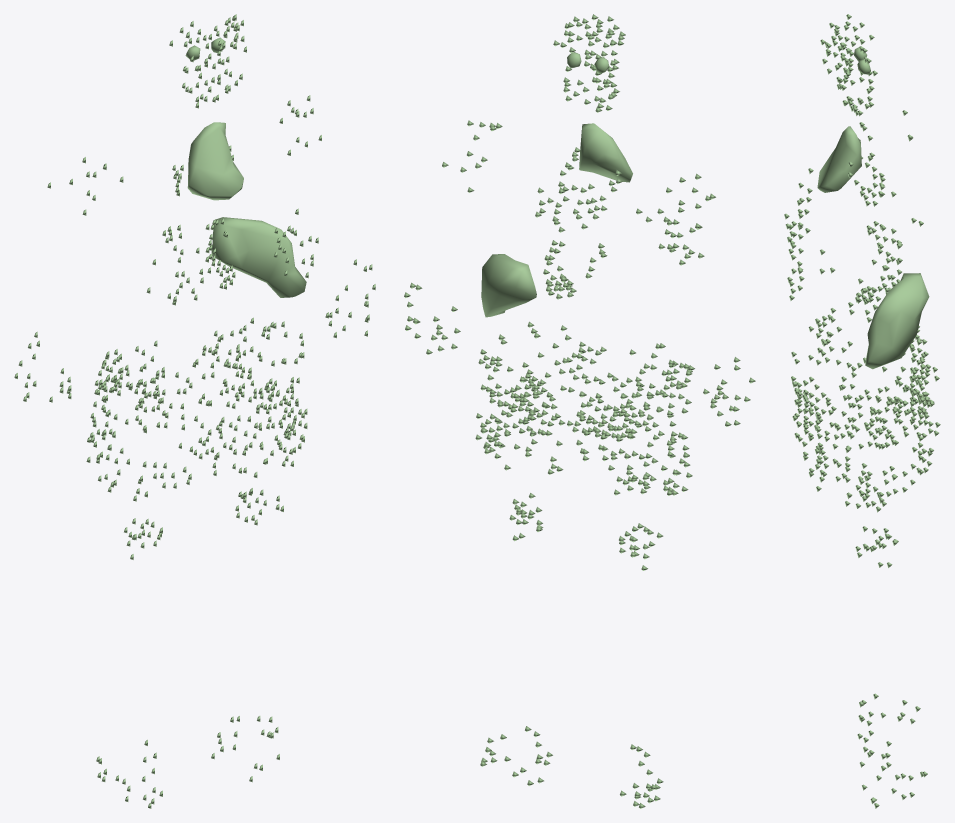
Rendered from pediatric_child_5y_female.lymphatic.LOD3.glb.
3 views of the same model, side by side, from view 1: azimuth 30°, elevation 25°; view 2: azimuth 150°, elevation 25°; view 3: azimuth 270°, elevation 25° (orthographic). The views are drawn at different scales.
Parts seen in each view (by area): view 1: PEDIATRIC.CHILD_5Y.FEMALE.LYMPHATIC.LYMPHATIC_NODES_TRUNK, PEDIATRIC.CHILD_5Y.FEMALE.LYMPHATIC.SPLEEN, PEDIATRIC.CHILD_5Y.FEMALE.LYMPHATIC.THYMUS, PEDIATRIC.CHILD_5Y.FEMALE.LYMPHATIC.LYMPHATIC_NODES_ET, PEDIATRIC.CHILD_5Y.FEMALE.LYMPHATIC.LYMPHATIC_NODES_THORACIC, PEDIATRIC.CHILD_5Y.FEMALE.LYMPHATIC.LYMPHATIC_NODES_LEGS, PEDIATRIC.CHILD_5Y.FEMALE.LYMPHATIC.LYMPHATIC_NODES_ARMS; view 2: PEDIATRIC.CHILD_5Y.FEMALE.LYMPHATIC.LYMPHATIC_NODES_TRUNK, PEDIATRIC.CHILD_5Y.FEMALE.LYMPHATIC.SPLEEN, PEDIATRIC.CHILD_5Y.FEMALE.LYMPHATIC.THYMUS, PEDIATRIC.CHILD_5Y.FEMALE.LYMPHATIC.LYMPHATIC_NODES_ET, PEDIATRIC.CHILD_5Y.FEMALE.LYMPHATIC.LYMPHATIC_NODES_THORACIC, PEDIATRIC.CHILD_5Y.FEMALE.LYMPHATIC.LYMPHATIC_NODES_ARMS, PEDIATRIC.CHILD_5Y.FEMALE.LYMPHATIC.LYMPHATIC_NODES_LEGS; view 3: PEDIATRIC.CHILD_5Y.FEMALE.LYMPHATIC.LYMPHATIC_NODES_TRUNK, PEDIATRIC.CHILD_5Y.FEMALE.LYMPHATIC.SPLEEN, PEDIATRIC.CHILD_5Y.FEMALE.LYMPHATIC.THYMUS, PEDIATRIC.CHILD_5Y.FEMALE.LYMPHATIC.LYMPHATIC_NODES_ET, PEDIATRIC.CHILD_5Y.FEMALE.LYMPHATIC.LYMPHATIC_NODES_THORACIC, PEDIATRIC.CHILD_5Y.FEMALE.LYMPHATIC.LYMPHATIC_NODES_LEGS, PEDIATRIC.CHILD_5Y.FEMALE.LYMPHATIC.LYMPHATIC_NODES_ARMS, PEDIATRIC.CHILD_5Y.FEMALE.LYMPHATIC.LYMPHATIC_NODES_HEAD.
Boxes of the visible parts, x1,y1,x2,y2 form: PEDIATRIC.CHILD_5Y.FEMALE.LYMPHATIC.LYMPHATIC_NODES_TRUNK: [47, 95, 321, 559]; PEDIATRIC.CHILD_5Y.FEMALE.LYMPHATIC.SPLEEN: [211, 217, 306, 297]; PEDIATRIC.CHILD_5Y.FEMALE.LYMPHATIC.THYMUS: [187, 122, 243, 200]; PEDIATRIC.CHILD_5Y.FEMALE.LYMPHATIC.LYMPHATIC_NODES_ET: [169, 14, 246, 85]; PEDIATRIC.CHILD_5Y.FEMALE.LYMPHATIC.LYMPHATIC_NODES_THORACIC: [165, 145, 235, 289]; PEDIATRIC.CHILD_5Y.FEMALE.LYMPHATIC.LYMPHATIC_NODES_LEGS: [96, 716, 279, 808]; PEDIATRIC.CHILD_5Y.FEMALE.LYMPHATIC.LYMPHATIC_NODES_ARMS: [14, 259, 375, 402]; PEDIATRIC.CHILD_5Y.FEMALE.LYMPHATIC.LYMPHATIC_NODES_TRUNK: [442, 120, 715, 570]; PEDIATRIC.CHILD_5Y.FEMALE.LYMPHATIC.SPLEEN: [481, 254, 536, 317]; PEDIATRIC.CHILD_5Y.FEMALE.LYMPHATIC.THYMUS: [579, 123, 632, 182]; PEDIATRIC.CHILD_5Y.FEMALE.LYMPHATIC.LYMPHATIC_NODES_ET: [553, 14, 625, 90]; PEDIATRIC.CHILD_5Y.FEMALE.LYMPHATIC.LYMPHATIC_NODES_THORACIC: [543, 147, 622, 299]; PEDIATRIC.CHILD_5Y.FEMALE.LYMPHATIC.LYMPHATIC_NODES_ARMS: [404, 282, 755, 426]; PEDIATRIC.CHILD_5Y.FEMALE.LYMPHATIC.LYMPHATIC_NODES_LEGS: [480, 726, 663, 808]; PEDIATRIC.CHILD_5Y.FEMALE.LYMPHATIC.LYMPHATIC_NODES_TRUNK: [784, 86, 940, 567]; PEDIATRIC.CHILD_5Y.FEMALE.LYMPHATIC.SPLEEN: [865, 273, 929, 369]; PEDIATRIC.CHILD_5Y.FEMALE.LYMPHATIC.THYMUS: [817, 126, 861, 192]; PEDIATRIC.CHILD_5Y.FEMALE.LYMPHATIC.LYMPHATIC_NODES_ET: [820, 14, 877, 90]; PEDIATRIC.CHILD_5Y.FEMALE.LYMPHATIC.LYMPHATIC_NODES_THORACIC: [847, 152, 902, 304]; PEDIATRIC.CHILD_5Y.FEMALE.LYMPHATIC.LYMPHATIC_NODES_LEGS: [857, 693, 927, 808]; PEDIATRIC.CHILD_5Y.FEMALE.LYMPHATIC.LYMPHATIC_NODES_ARMS: [854, 234, 901, 449]; PEDIATRIC.CHILD_5Y.FEMALE.LYMPHATIC.LYMPHATIC_NODES_HEAD: [837, 71, 871, 116].
Bounding box in the file's own units: 0.3432 × 0.7258 × 0.1357.
